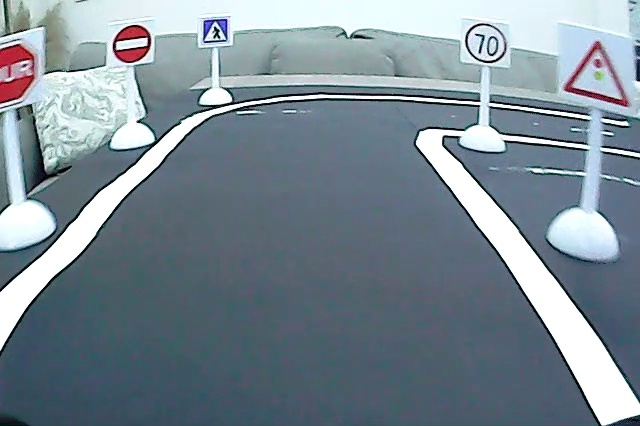do not enter: (110, 21, 154, 67)
pedestrian crossing: (200, 16, 230, 45)
red light: (559, 33, 636, 112)
speed limit 70: (463, 20, 510, 68)
